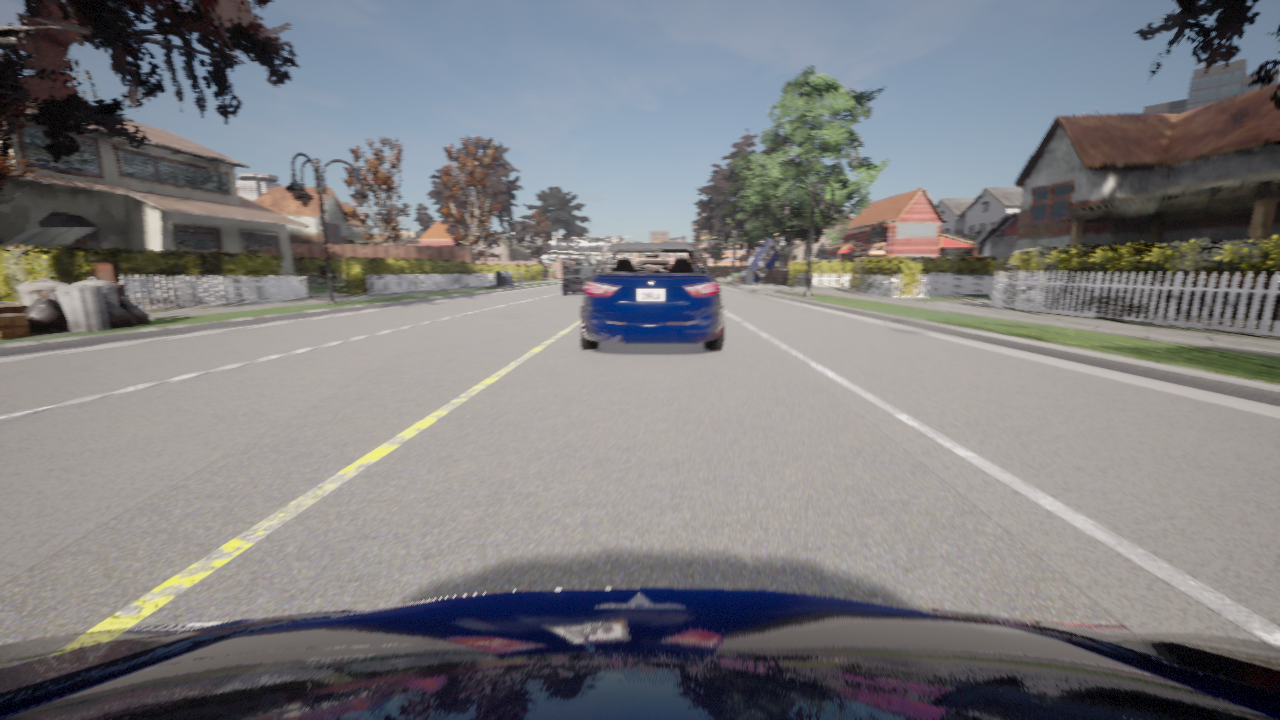cyclist: (0, 588, 1279, 719), (580, 242, 723, 350), (740, 237, 781, 283), (562, 264, 594, 294)
pedestrian: (761, 279, 763, 284)
